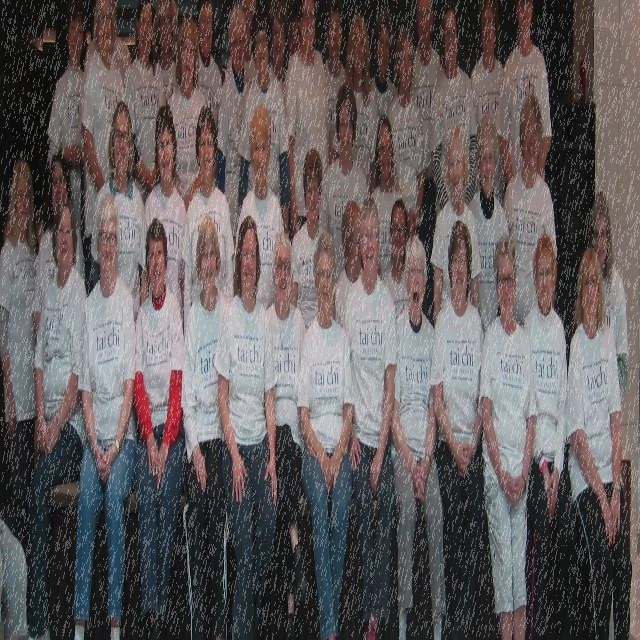pessoa: (70, 189, 138, 639), (26, 197, 88, 639), (214, 214, 278, 638), (566, 248, 633, 639), (476, 230, 536, 639), (180, 210, 236, 639), (389, 234, 447, 639), (296, 226, 353, 638), (344, 191, 396, 638), (430, 220, 484, 639), (134, 216, 184, 639), (522, 232, 570, 638), (264, 230, 310, 639), (0, 154, 39, 546), (47, 0, 93, 304), (502, 91, 558, 325), (90, 98, 146, 330), (237, 8, 290, 236), (408, 0, 444, 328), (284, 0, 330, 250), (216, 3, 254, 298), (430, 125, 482, 333), (184, 104, 234, 318), (81, 0, 125, 240), (495, 0, 551, 188), (320, 78, 370, 288), (32, 148, 86, 340), (430, 0, 478, 215), (138, 101, 188, 306), (236, 103, 284, 310), (386, 23, 429, 247), (468, 111, 510, 333), (332, 12, 380, 198), (588, 188, 628, 398), (168, 15, 208, 215), (469, 0, 506, 209), (290, 144, 326, 336), (370, 112, 404, 284), (191, 0, 224, 141), (83, 0, 131, 90), (334, 198, 365, 336), (0, 513, 30, 639), (323, 0, 346, 164), (369, 8, 399, 126), (382, 196, 410, 320), (222, 0, 259, 92), (152, 0, 182, 109), (268, 2, 287, 102), (285, 1, 301, 63)
